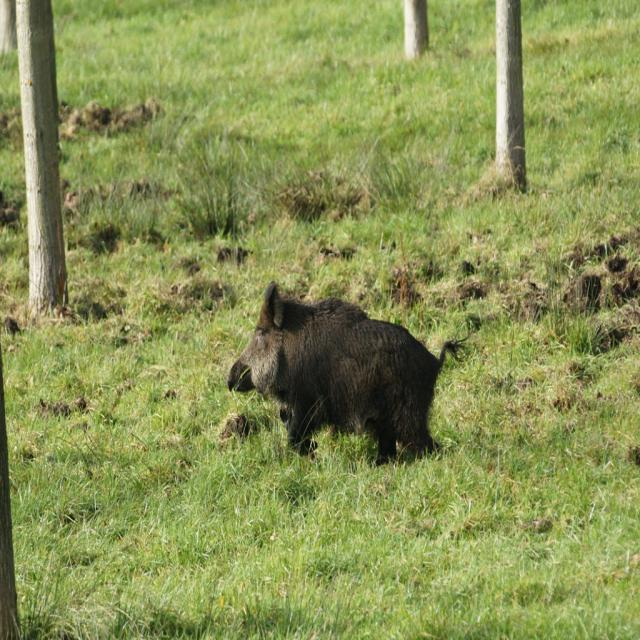Pig: (225, 279, 473, 467)
